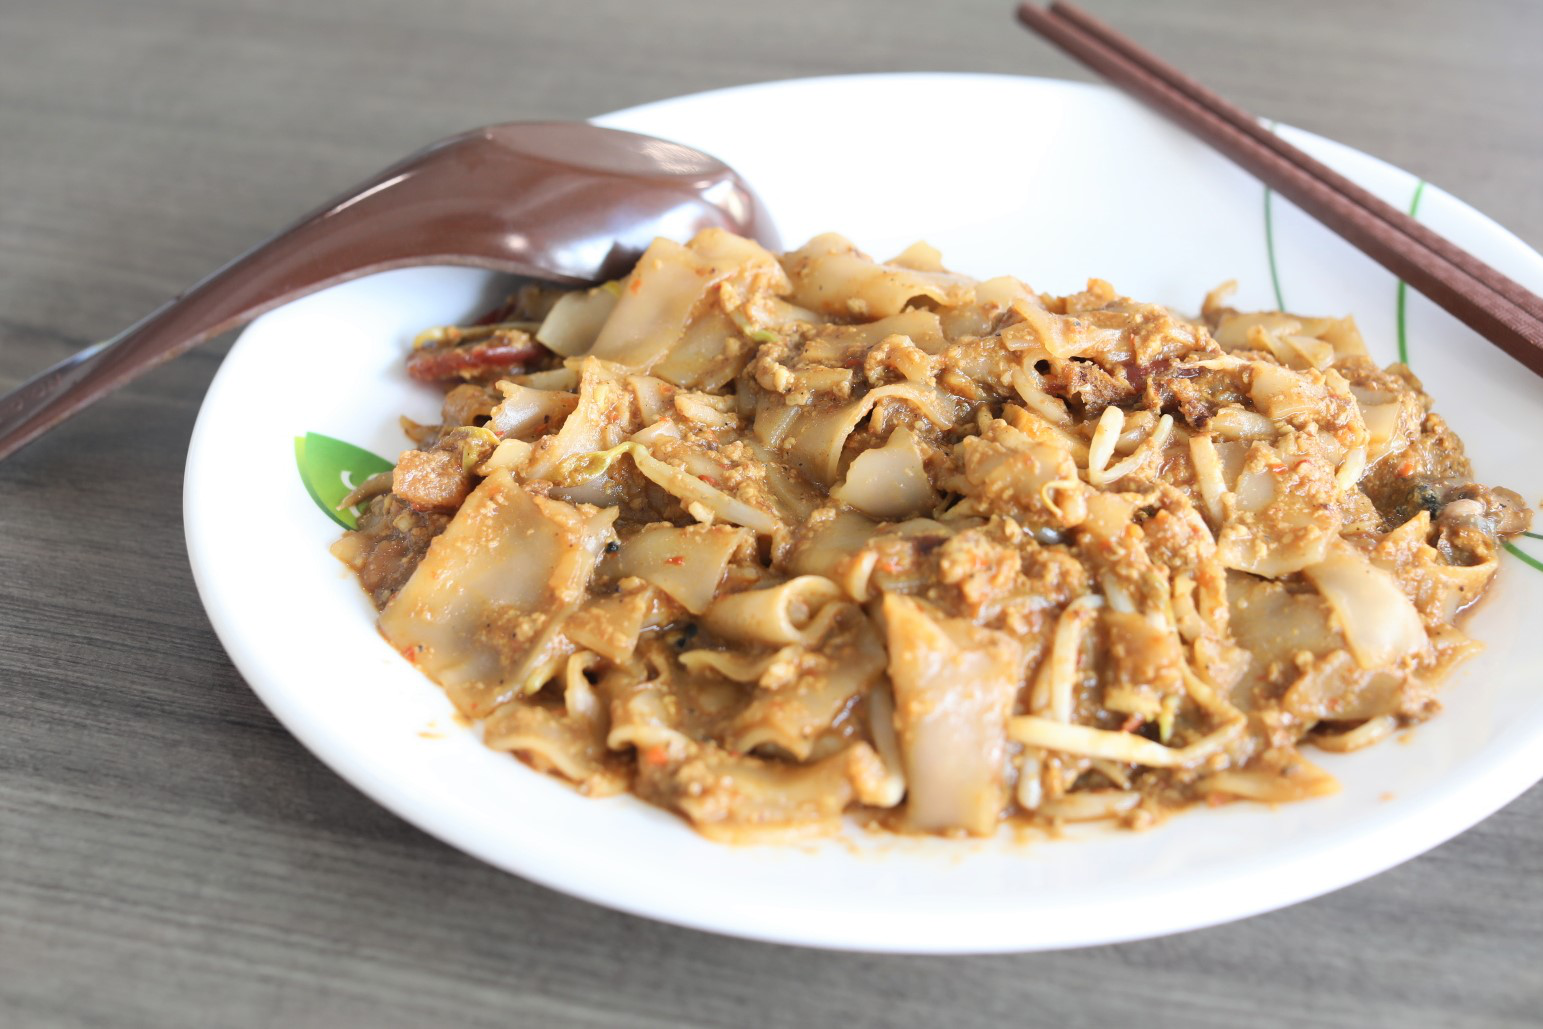Char Kway Teow: (343, 194, 1502, 790)
